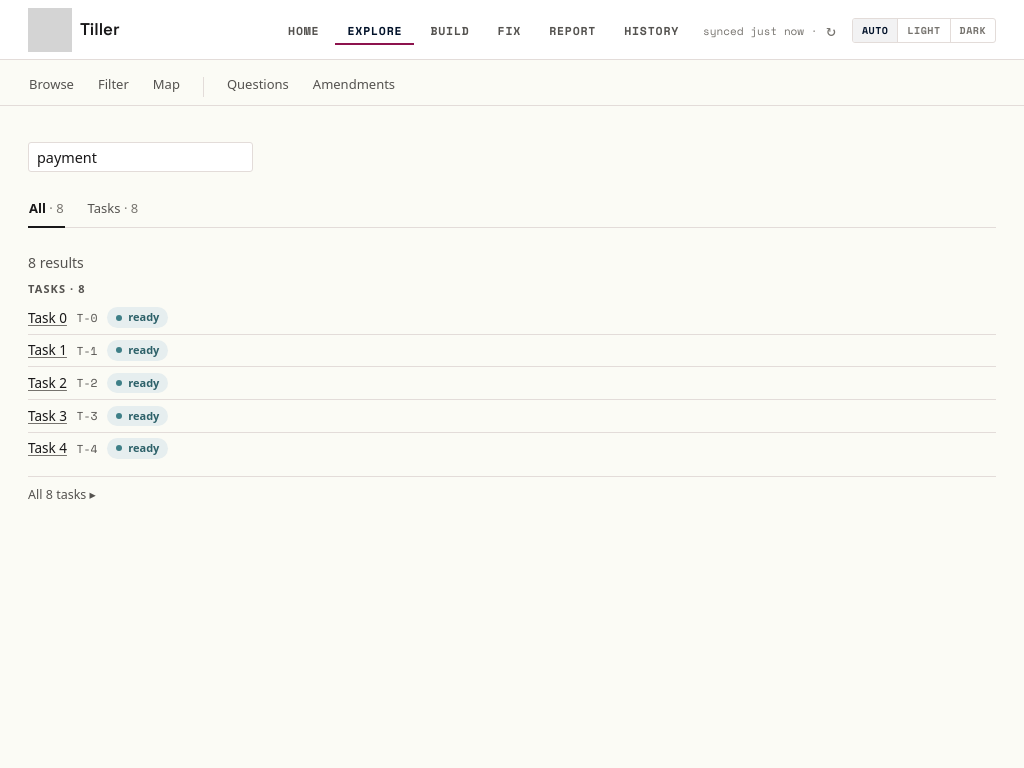
Explore search: grouped by kind › caps each section on All and links to the kind's own tab for the rest
expect the number of list items is 5: met, box [28, 302, 996, 334]; [28, 334, 996, 367]; [28, 367, 996, 400]; [28, 400, 996, 433]; [28, 438, 168, 459]
Click the button "All 8 tasks ▸" at point(71, 495), box [28, 476, 996, 512]
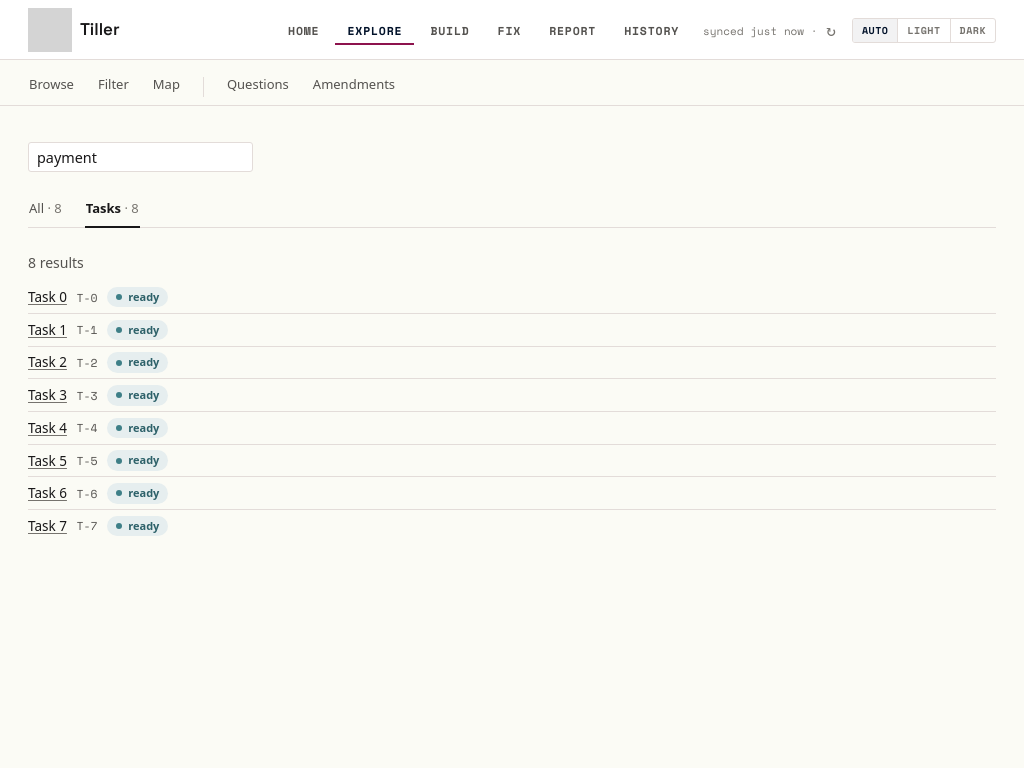
expect the link "Task 7" is shown: met, box [28, 516, 67, 536]
